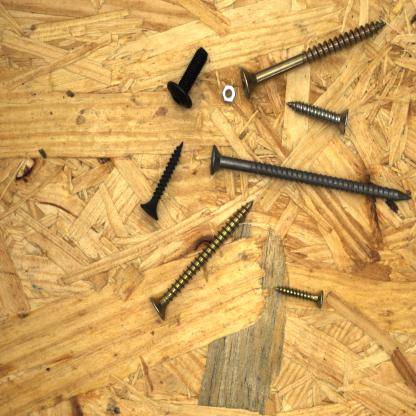screw: (146, 197, 256, 324), (238, 18, 391, 102), (209, 142, 414, 203), (138, 139, 185, 222), (164, 44, 210, 110), (285, 98, 353, 136), (272, 283, 326, 310)
